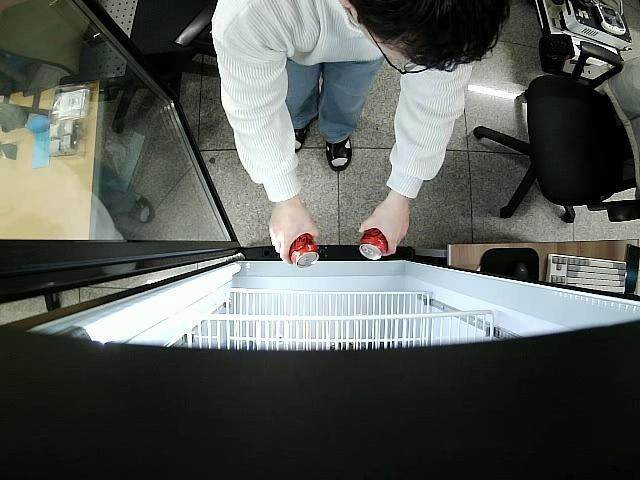11_cocaColaZero: (289, 230, 320, 269), (359, 224, 390, 260)
